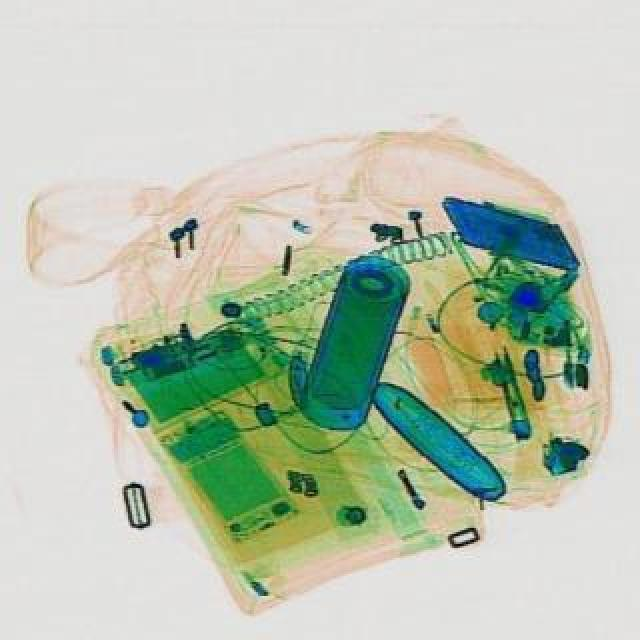pliers: (488, 340, 532, 440)
